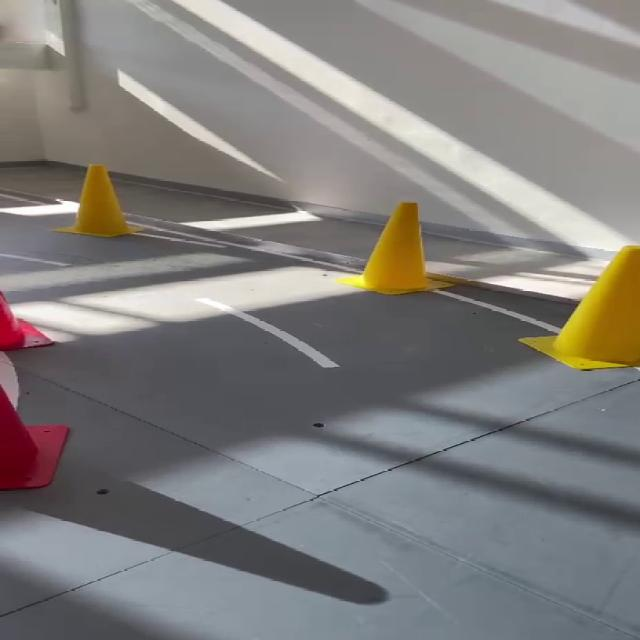Cone-red: (0, 385, 68, 490), (0, 291, 52, 350)
Cones-yellow: (520, 246, 639, 369), (337, 202, 429, 294), (57, 165, 138, 237)
